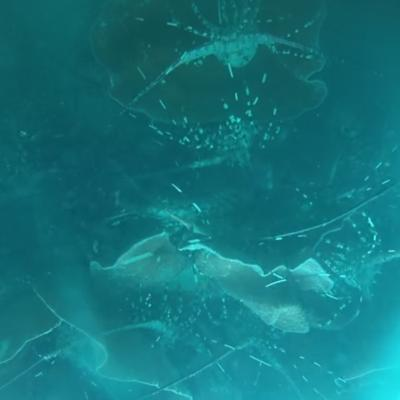lobster: (335, 230, 392, 298), (206, 5, 263, 69), (210, 109, 261, 173)
